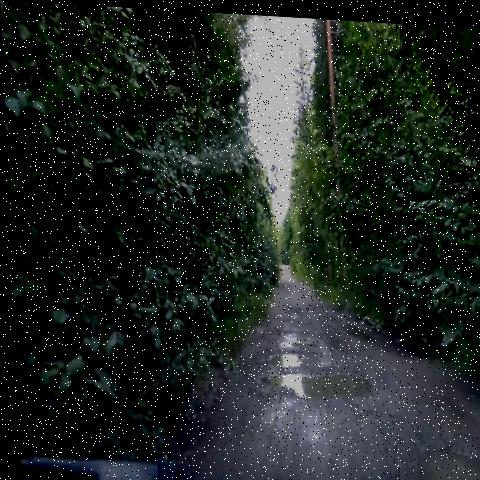pothole: (369, 409, 480, 480), (245, 355, 376, 412), (329, 302, 380, 351), (252, 336, 310, 368), (268, 323, 310, 349), (277, 307, 303, 328)
